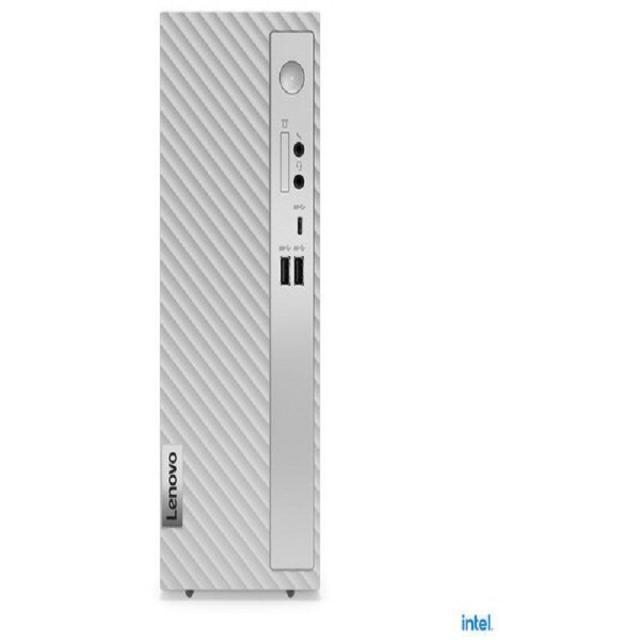Desktop-PC: (148, 1, 334, 610)
